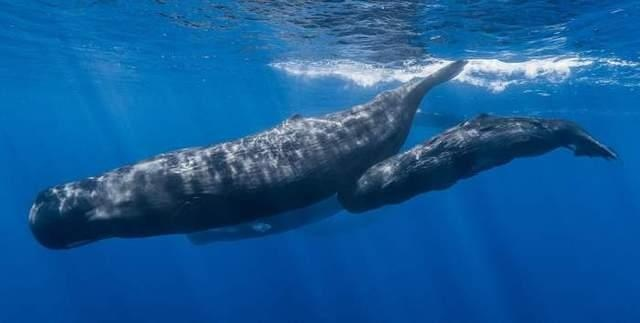fish: (27, 51, 466, 258), (341, 102, 618, 217)
